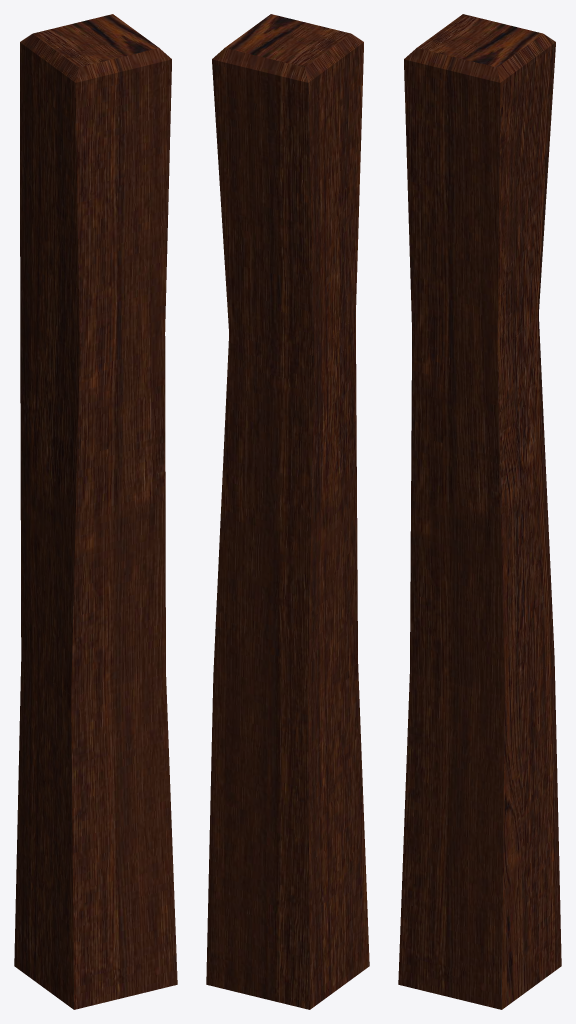
File: SM_Prop_Fence_Fancy_Pole_01.fbx
3 renders of one model, left to right at view 1: azimuth 30°, elevation 25°; view 2: azimuth 150°, elevation 25°; view 3: azimuth 330°, elevation 25°, orthographic.
Parts seen in each view (by area): view 1: Cube.003; view 2: Cube.003; view 3: Cube.003.
Part boxes in pixels (x1,y1,x2,y2): Cube.003: (14, 14, 177, 1009); Cube.003: (206, 14, 369, 1009); Cube.003: (398, 14, 561, 1009).
Size of the model in its own units: 18.01 by 155 by 18.01.
